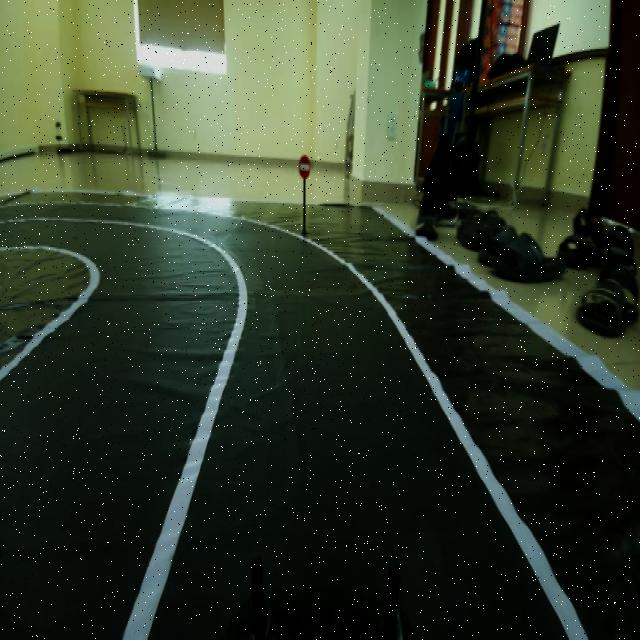no_entry: (293, 143, 314, 183)
